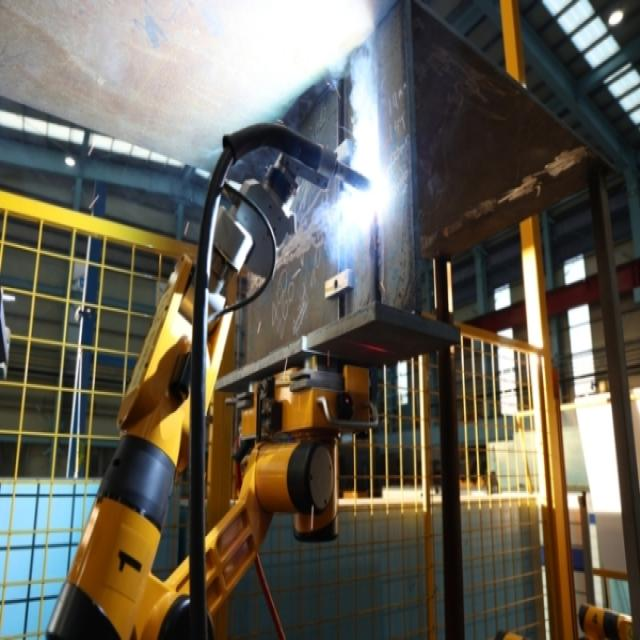welding: (359, 170, 393, 218), (345, 190, 392, 216)
